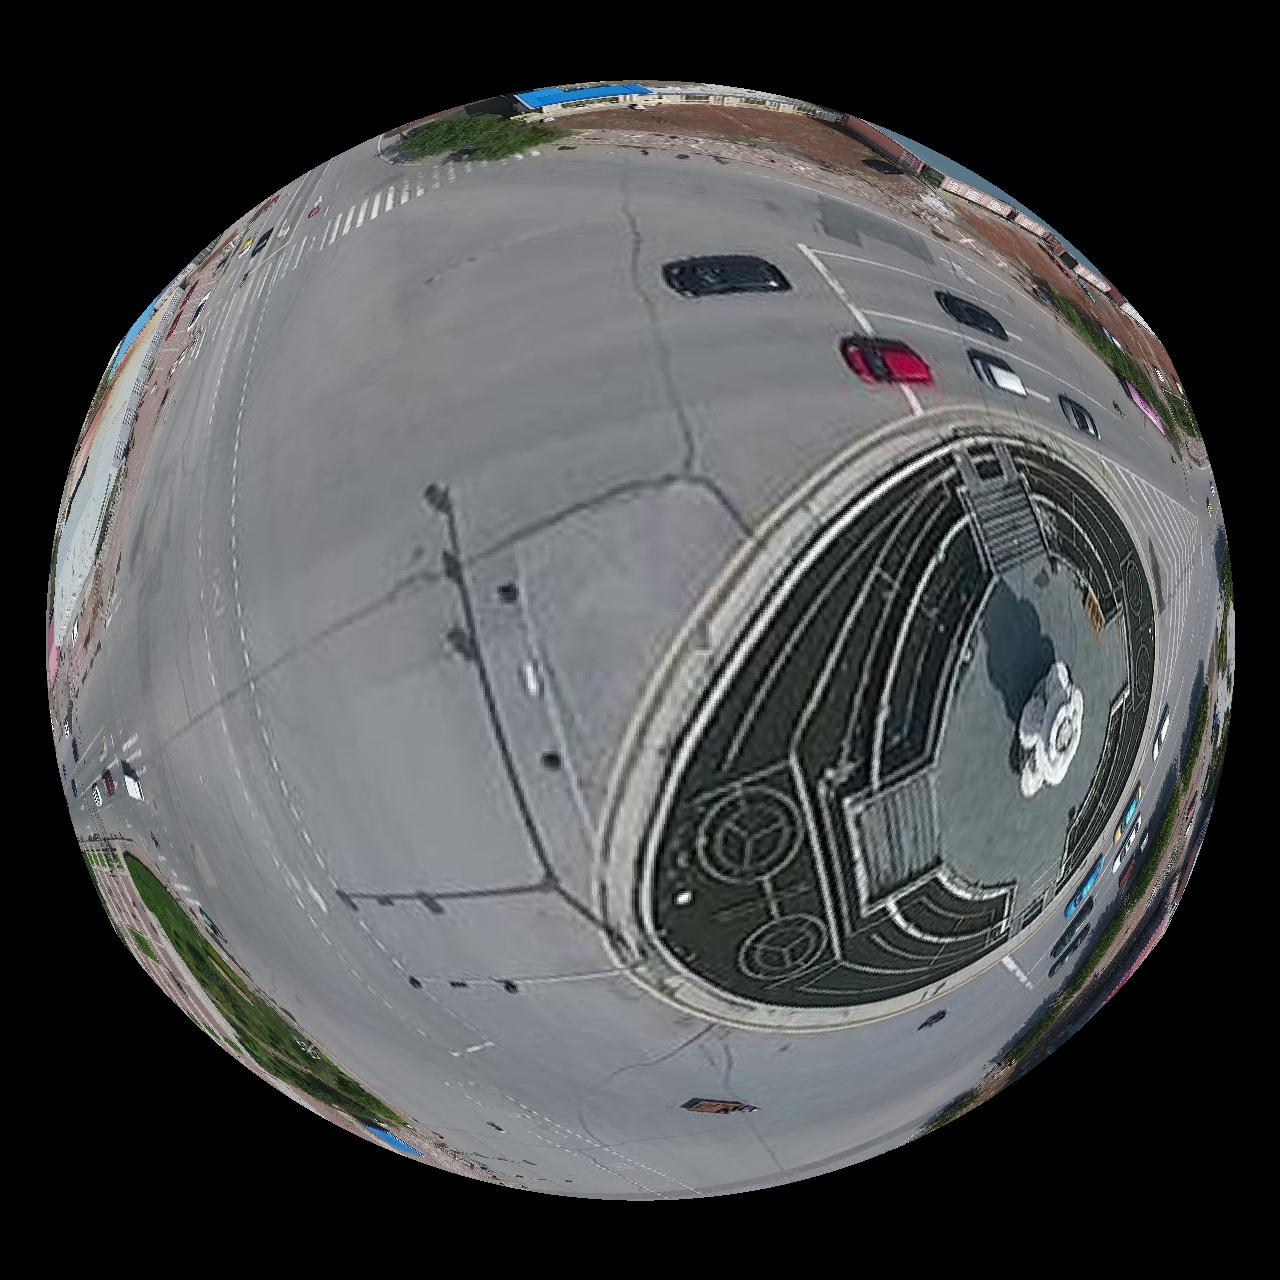cars: (663, 254, 792, 296), (842, 334, 935, 384), (937, 291, 1010, 338), (970, 351, 1029, 396), (1061, 394, 1101, 440)
trees: (124, 854, 405, 1136), (387, 112, 569, 160)
